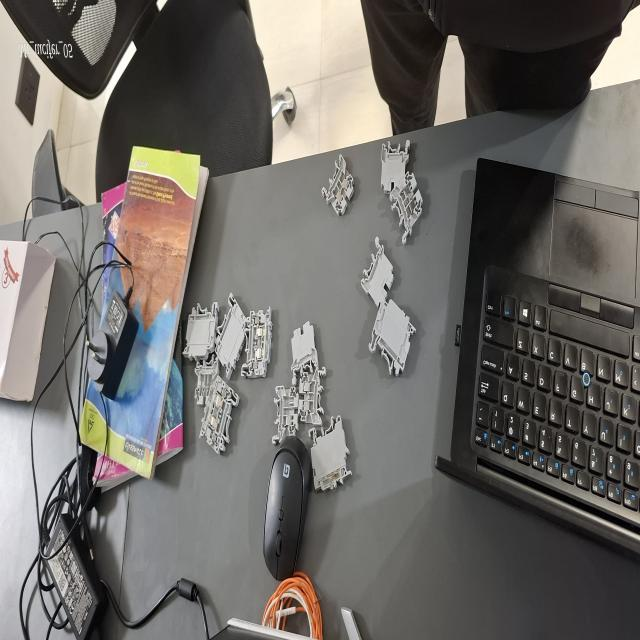Inverted: (373, 140, 416, 199), (360, 238, 396, 308), (288, 318, 319, 386)
Pass: (320, 152, 356, 224), (390, 172, 424, 246), (296, 357, 328, 430)
Reject: (272, 380, 301, 450)
